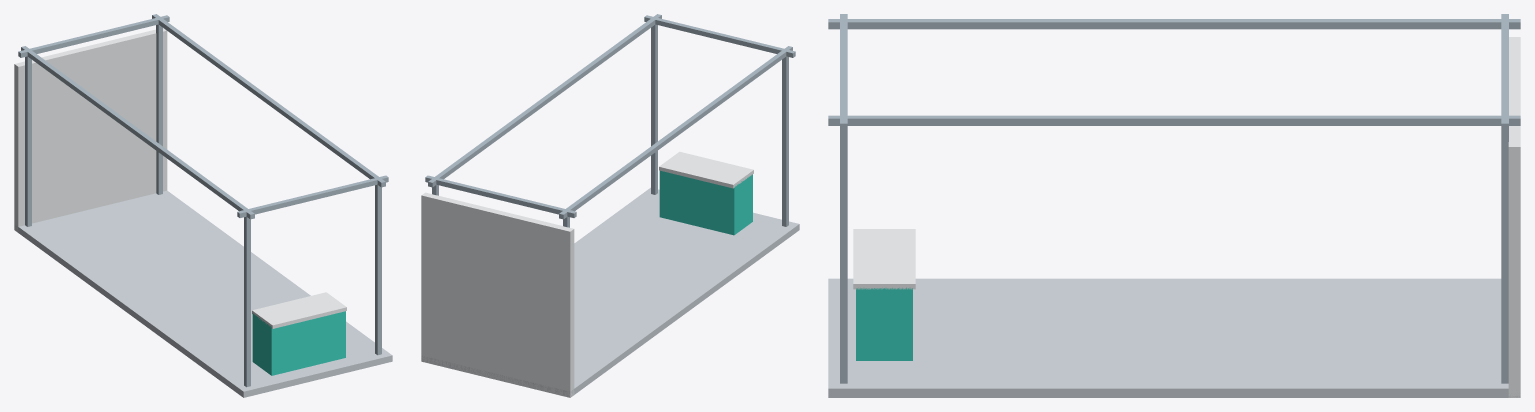
The picture shows the model from 3 angles, left to right: view 1: azimuth 30°, elevation 25°; view 2: azimuth 150°, elevation 25°; view 3: azimuth 270°, elevation 25°; orthographic projection. The views are drawn at different scales.
Parts seen in each view (by area): view 1: Exhibition Booth Concept; view 2: Exhibition Booth Concept; view 3: Exhibition Booth Concept.
Boxes of the visible parts, x1,y1,x2,y2 form: Exhibition Booth Concept: [14, 14, 392, 397]; Exhibition Booth Concept: [421, 14, 799, 397]; Exhibition Booth Concept: [828, 14, 1520, 397].
Bounding box in the file's own units: 3 × 3.49 × 8.
